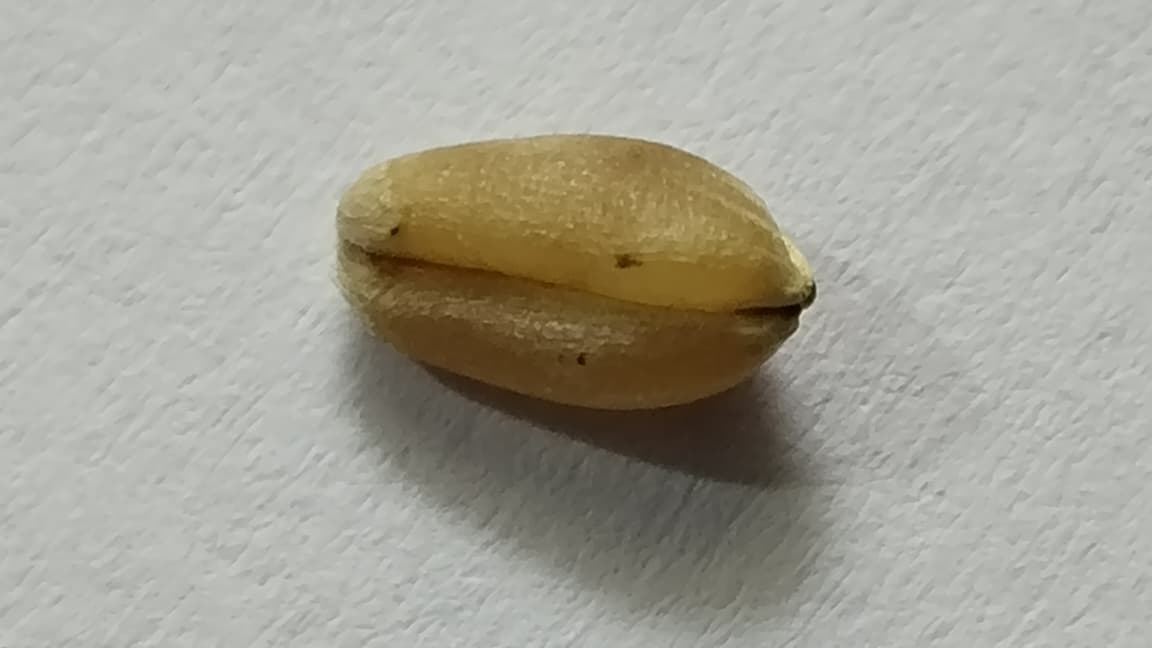black_point: (597, 234, 662, 280)
healthy: (338, 136, 814, 408)
